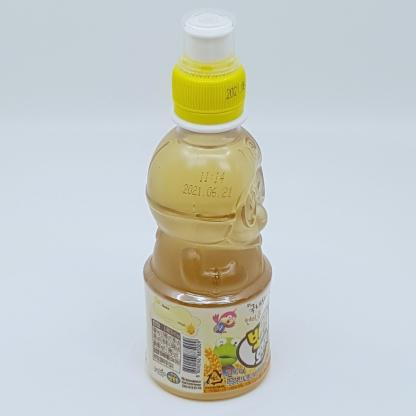--------220ML: (142, 8, 273, 401)
